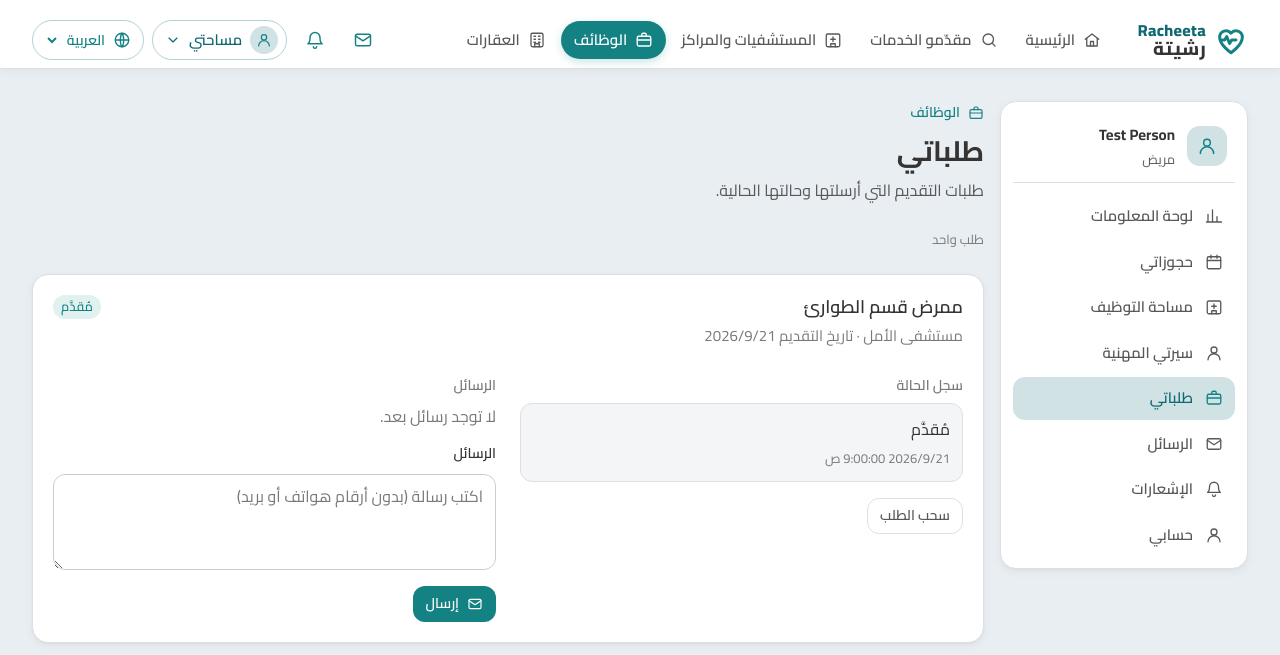
Scenario: MyApplicationsPage › lists applications with status and withdraws one
The width and height of the screenshot is (1280, 655).
Expected: the text "مُقدَّم" in the row of "ممرض قسم الطوارئ" is shown, x1=61 y1=294 x2=93 y2=318
What coordinates should you click on to do the following:
click the button "سحب الطلب"
I would click on:
 (915, 516)
Its box is x1=867 y1=498 x2=963 y2=534.
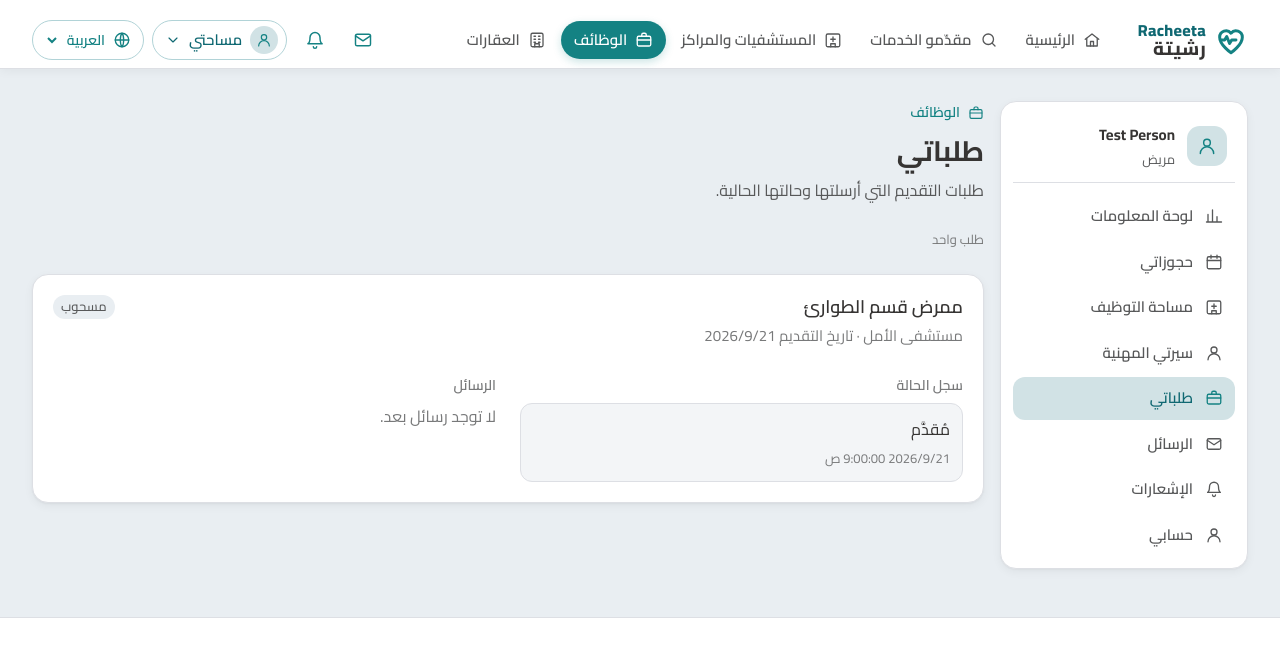
Expected: the text "مسحوب" is shown, x1=53 y1=296 x2=115 y2=319
